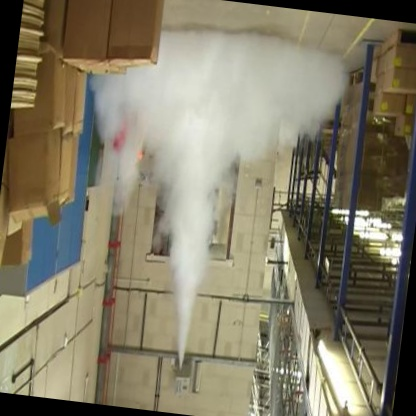smoke: (79, 22, 330, 386)
